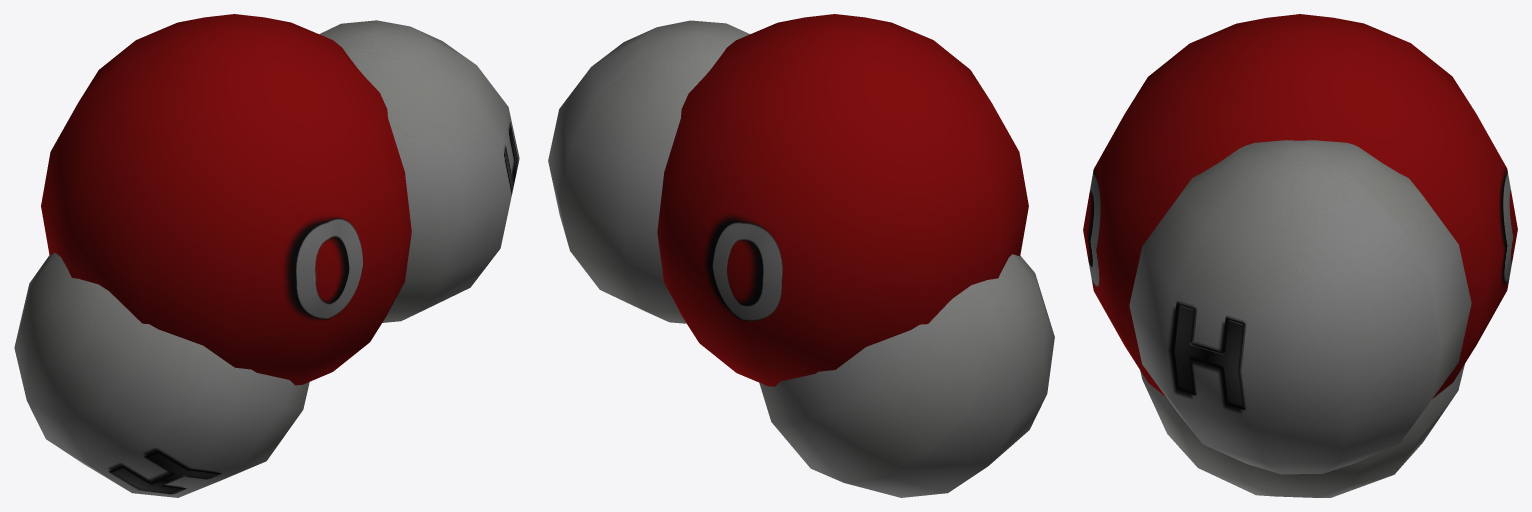
The model's file is Water.gltf.
3 views of the same model, side by side, from view 1: azimuth 30°, elevation 25°; view 2: azimuth 150°, elevation 25°; view 3: azimuth 270°, elevation 25° (orthographic). The views are drawn at different scales.
Visible parts, largest first — view 1: Water; view 2: Water; view 3: Water.
Boxes of the visible parts, x1,y1,x2,y2 form: Water: [14, 14, 519, 497]; Water: [548, 14, 1054, 497]; Water: [1083, 14, 1517, 497].
Size of the model in its own units: 1.74 by 1.56 by 1.27.
Materials: 2 (2 with a texture image).
